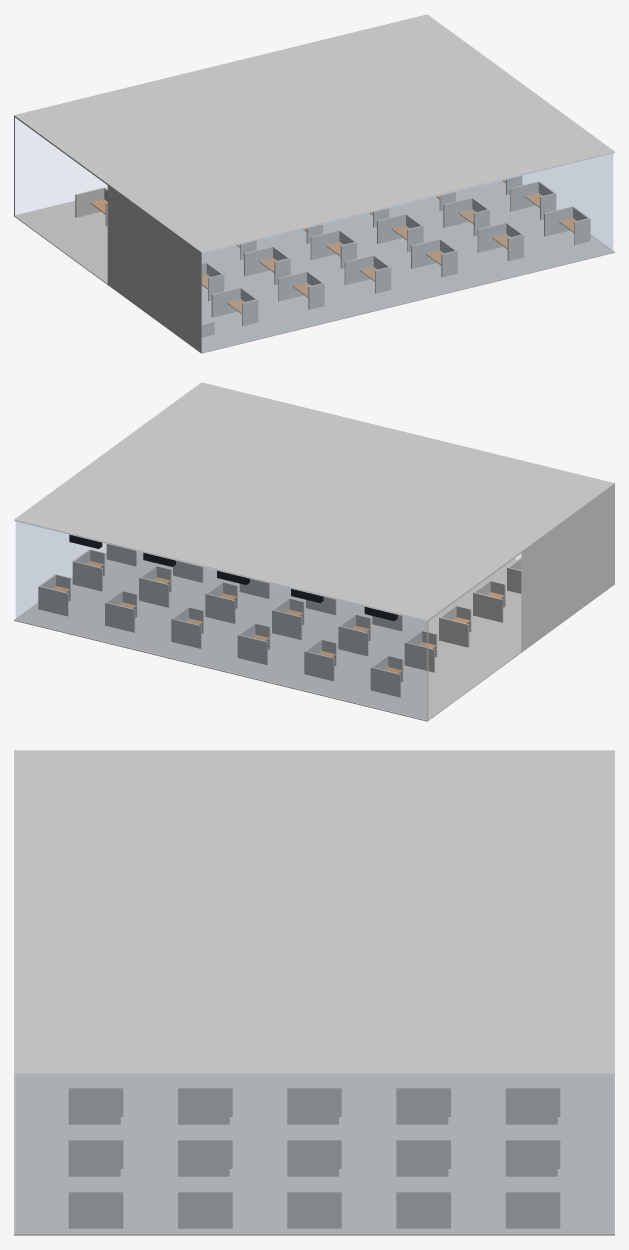
File: Lvl1.fbx
The picture shows the model from 3 angles, top to bottom: view 1: azimuth 30°, elevation 25°; view 2: azimuth 150°, elevation 25°; view 3: azimuth 270°, elevation 25°; orthographic projection. The views are drawn at different scales.
Parts seen in each view (by area): view 1: Plane, Plane.008; view 2: Plane, Plane.008, Plane.005; view 3: Plane, Plane.008.
Part boxes in pixels (x1,y1,x2,y2): Plane: [14, 14, 614, 353]; Plane.008: [75, 176, 590, 325]; Plane: [14, 382, 614, 721]; Plane.008: [38, 544, 521, 697]; Plane.005: [69, 534, 397, 620]; Plane: [14, 750, 614, 1235]; Plane.008: [68, 1076, 560, 1228].
Size of the model in its own units: 2800 by 655 by 2200.
